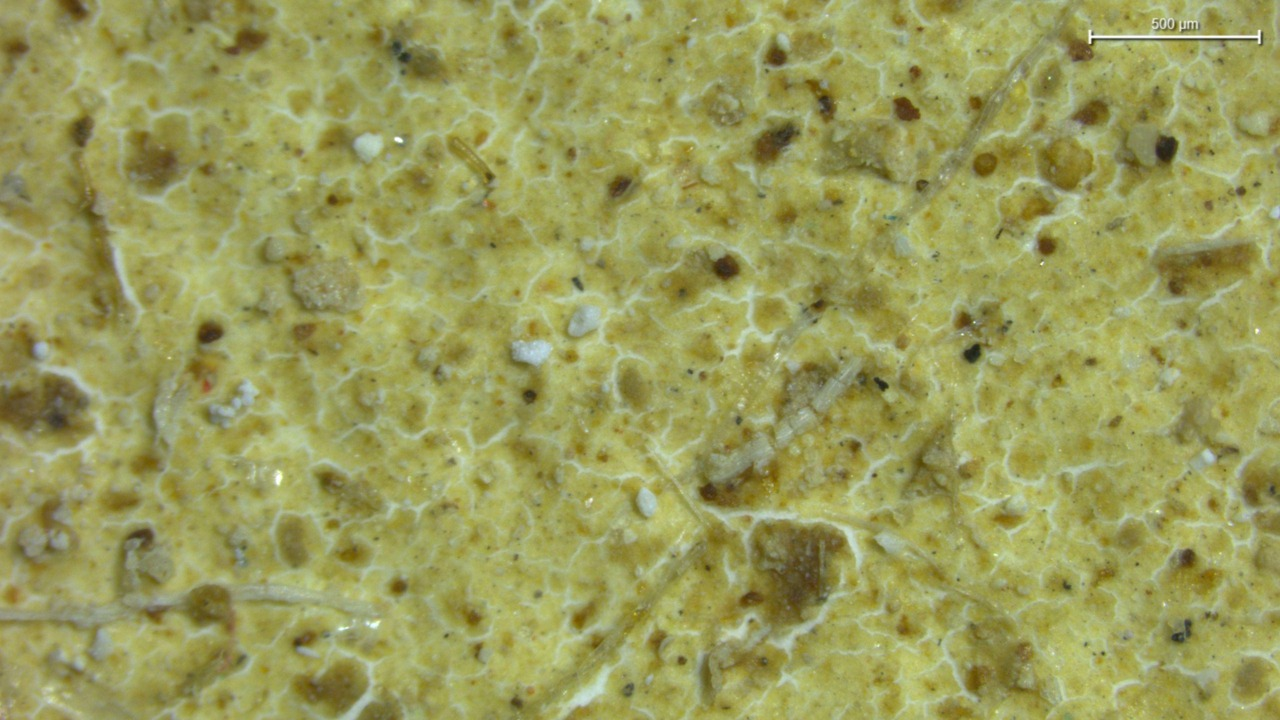microplastic_fragment: (511, 340, 553, 367), (567, 305, 601, 336), (352, 132, 383, 163), (636, 487, 657, 518)
